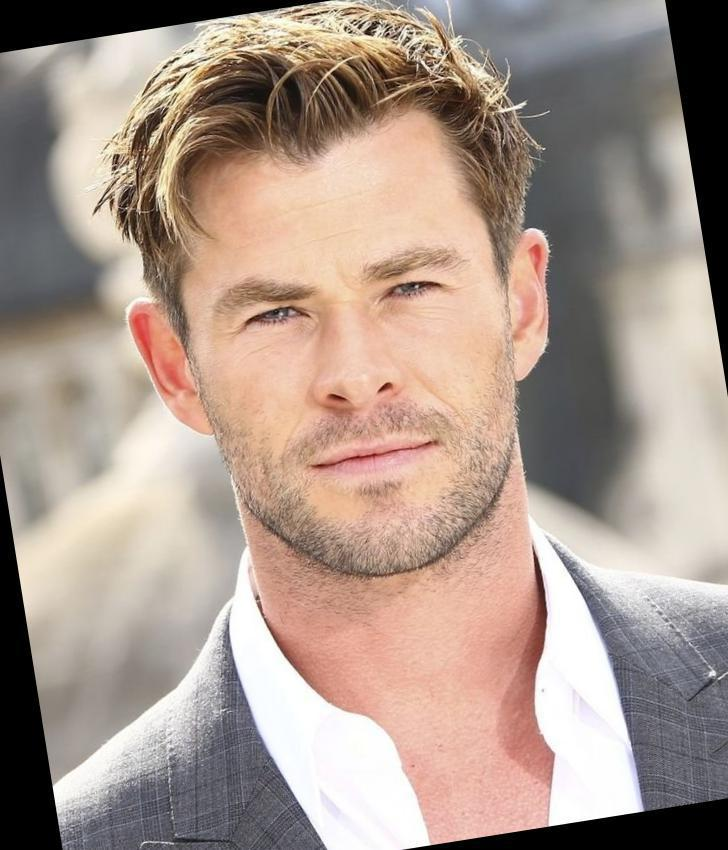Sober: (189, 160, 504, 547)
